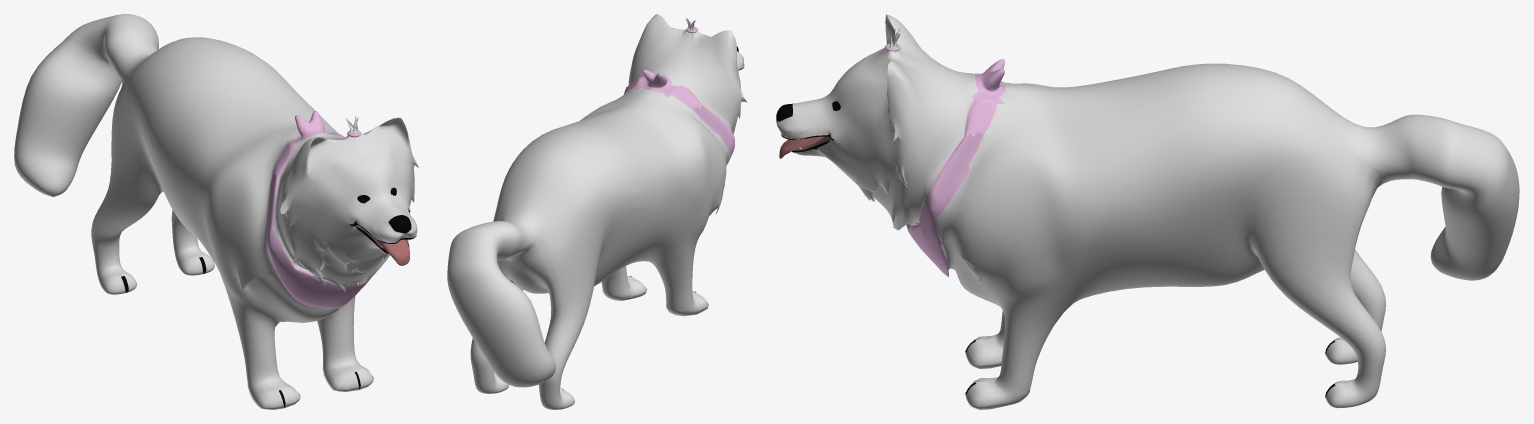
File: dog.fbx
3 renders of one model, left to right at view 1: azimuth 30°, elevation 25°; view 2: azimuth 150°, elevation 25°; view 3: azimuth 270°, elevation 25°, orthographic. The views are drawn at different scales.
Parts seen in each view (by area): view 1: Cougar_Cougar_mesh5; view 2: Cougar_Cougar_mesh5; view 3: Cougar_Cougar_mesh5.
Boxes of the visible parts, box(x1,y1,x2,y2) form: Cougar_Cougar_mesh5: box(14, 14, 418, 409); Cougar_Cougar_mesh5: box(447, 14, 747, 409); Cougar_Cougar_mesh5: box(776, 14, 1519, 409).
Bounding box in the file's own units: 3.5 × 6.22 × 11.96.
